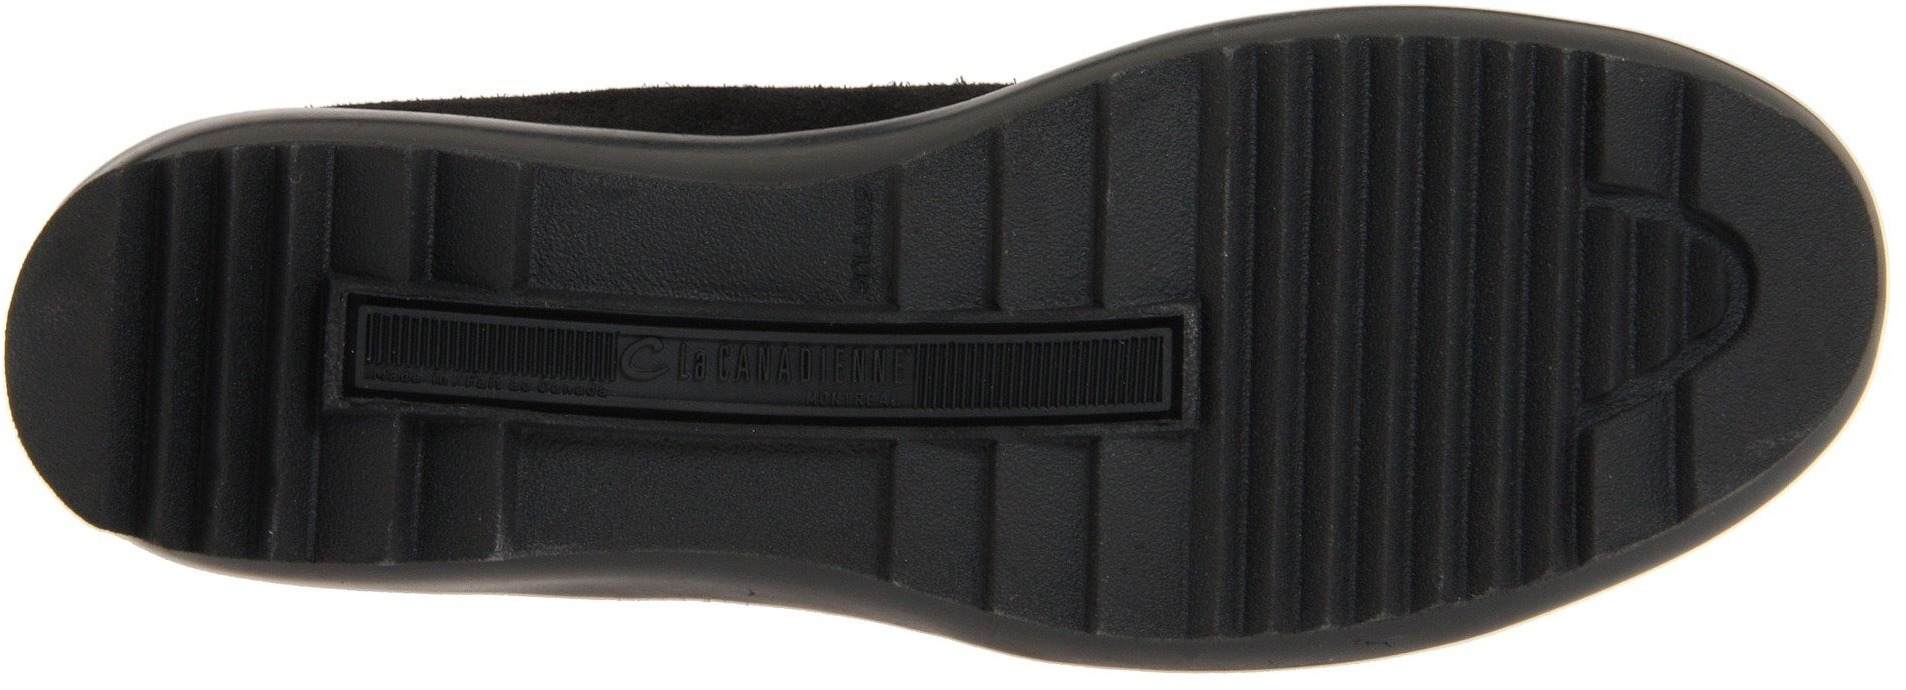quad: (1174, 29, 1538, 647), (936, 435, 1134, 634), (920, 146, 1141, 312), (1573, 371, 1701, 575), (1573, 384, 1684, 586), (1577, 43, 1692, 211)
text: (822, 332, 920, 420), (709, 333, 803, 417), (607, 327, 697, 413)
